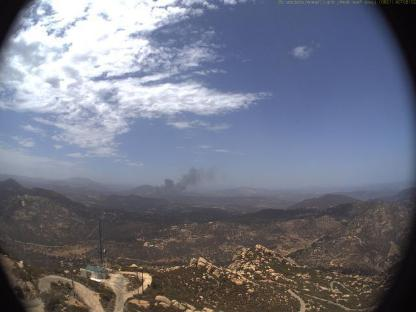smoke: (126, 164, 218, 198)
